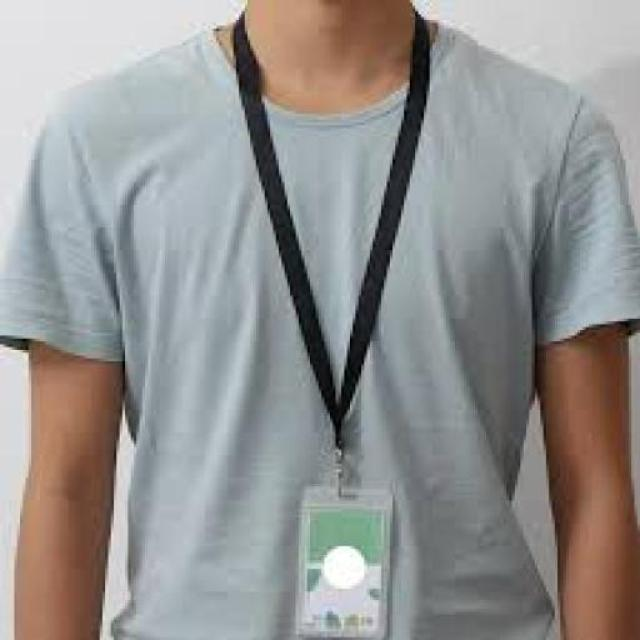id_card: (223, 12, 439, 640)
